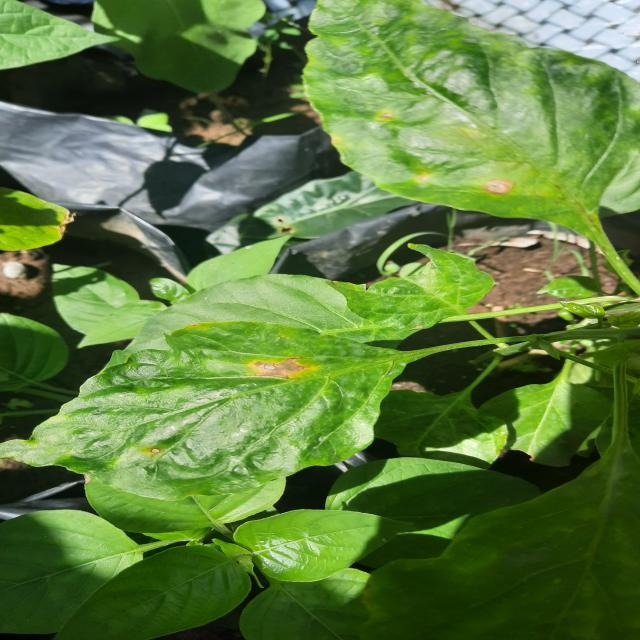bercak_daun: (290, 24, 629, 211), (97, 325, 404, 440)
